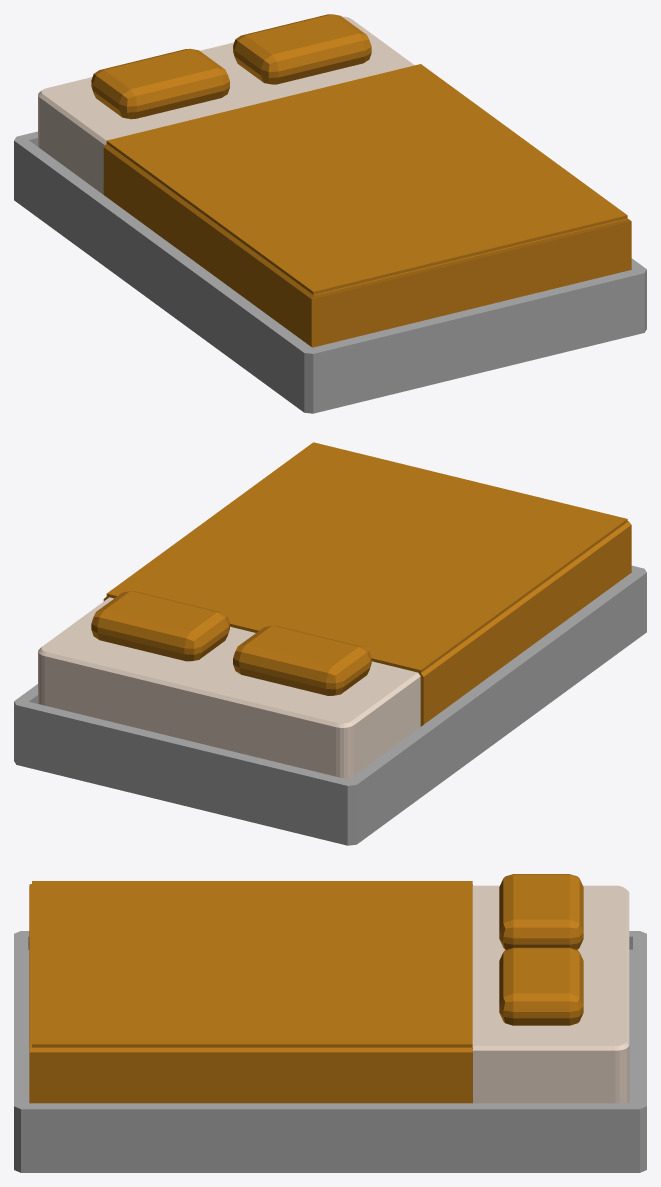
File: doublebed.glb
The picture shows the model from 3 angles, top to bottom: view 1: azimuth 30°, elevation 25°; view 2: azimuth 150°, elevation 25°; view 3: azimuth 270°, elevation 25°; orthographic projection. The views are drawn at different scales.
Parts seen in each view (by area): view 1: Bed, Pillow; view 2: Bed, Pillow; view 3: Bed, Pillow.
Boxes of the visible parts, box(x1,y1,x2,y2) form: Bed: box(14, 16, 646, 413); Pillow: box(91, 14, 371, 119); Bed: box(14, 442, 646, 845); Pillow: box(91, 591, 371, 695); Bed: box(14, 881, 646, 1172); Pillow: box(499, 874, 583, 1025).
Bounding box in the file's own units: 3 × 1.17 × 4.5.
